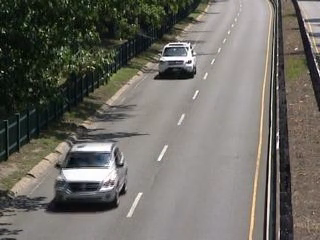car: (51, 139, 131, 210), (156, 40, 201, 84)
